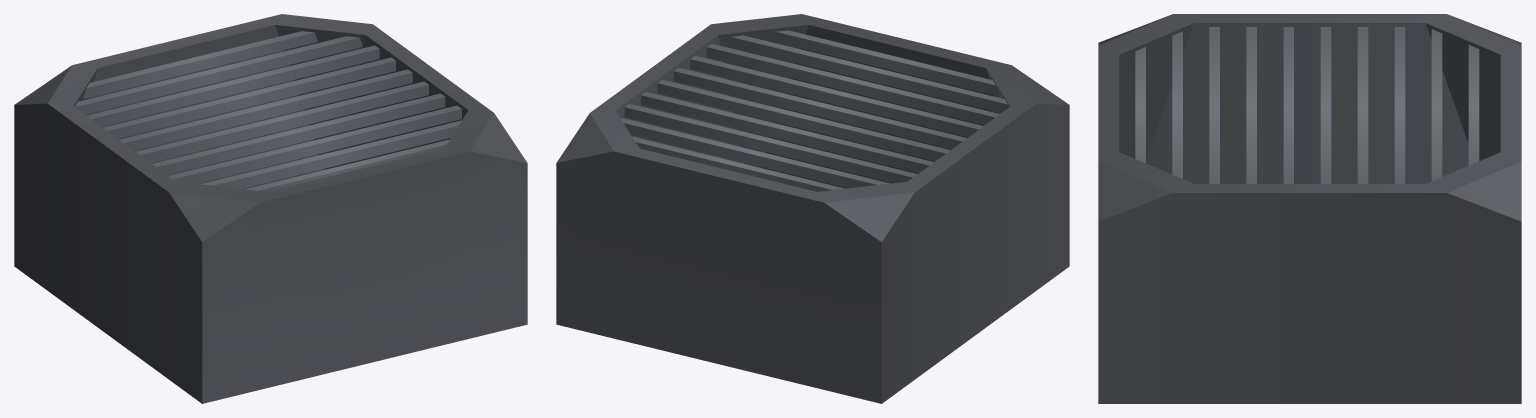
Rendered from Vent.fbx.
3 views of the same model, side by side, from view 1: azimuth 30°, elevation 25°; view 2: azimuth 150°, elevation 25°; view 3: azimuth 270°, elevation 25° (orthographic). The views are drawn at different scales.
Parts seen in each view (by area): view 1: ventilation.001, grid; view 2: ventilation.001, grid; view 3: ventilation.001, grid.
Boxes of the visible parts, x1,y1,x2,y2 form: ventilation.001: (14, 14, 527, 403); grid: (74, 31, 461, 191); ventilation.001: (556, 14, 1069, 403); grid: (620, 30, 1008, 191); ventilation.001: (1098, 14, 1521, 403); grid: (1135, 27, 1479, 183).
Size of the model in its own units: 200 by 110 by 200.
1 material, 1 textured.
